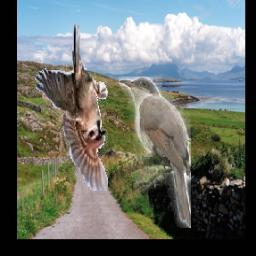Cuckoo: (120, 77, 192, 228)
Sparrow: (33, 21, 109, 192)
